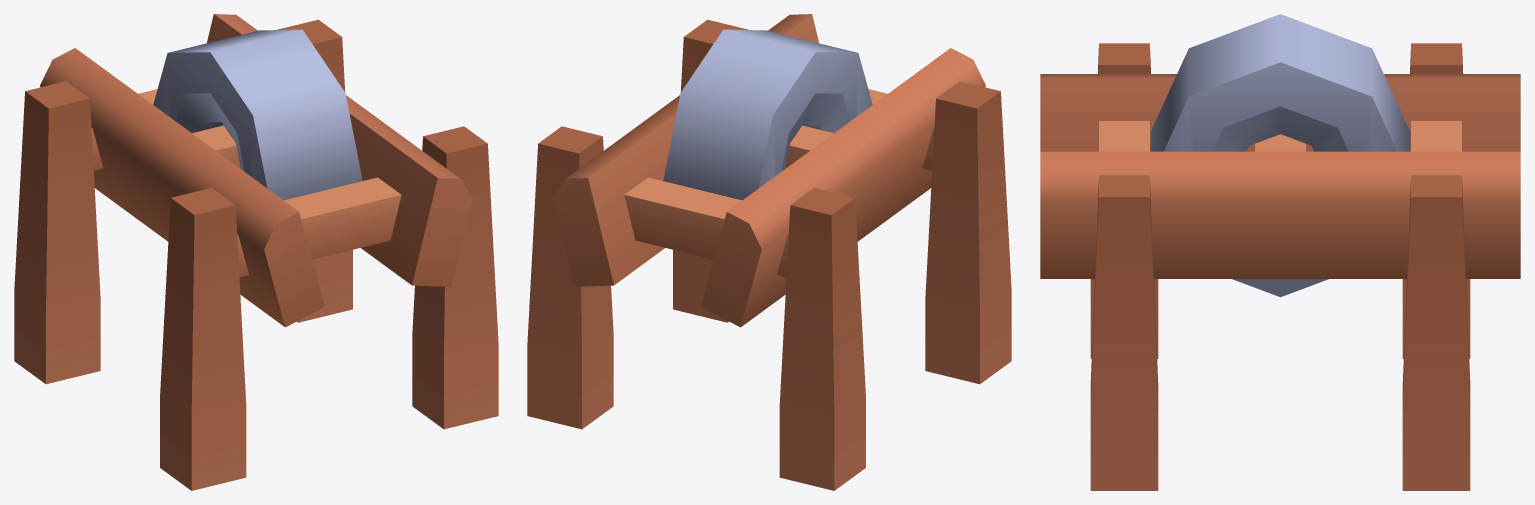
The model's file is k-survival-workbench-grind.glb.
3 renders of one model, left to right at view 1: azimuth 30°, elevation 25°; view 2: azimuth 150°, elevation 25°; view 3: azimuth 270°, elevation 25°, orthographic. The views are drawn at different scales.
Parts seen in each view (by area): view 1: workbench-grind, wheel; view 2: workbench-grind, wheel; view 3: workbench-grind, wheel.
Boxes of the visible parts, left/top/right/bottom form: workbench-grind: left=14, top=14, right=498, bottom=490; wheel: left=153, top=29, right=362, bottom=200; workbench-grind: left=527, top=14, right=1011, bottom=490; wheel: left=663, top=29, right=872, bottom=200; workbench-grind: left=1040, top=43, right=1520, bottom=490; wheel: left=1150, top=14, right=1410, bottom=297.
Bounding box in the file's own units: 0.2604 × 0.2817 × 0.329.
1 material, 1 textured.
